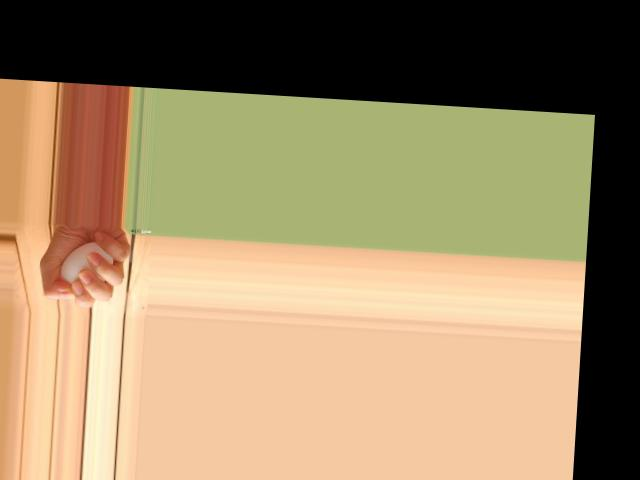egg: (59, 239, 115, 285)
